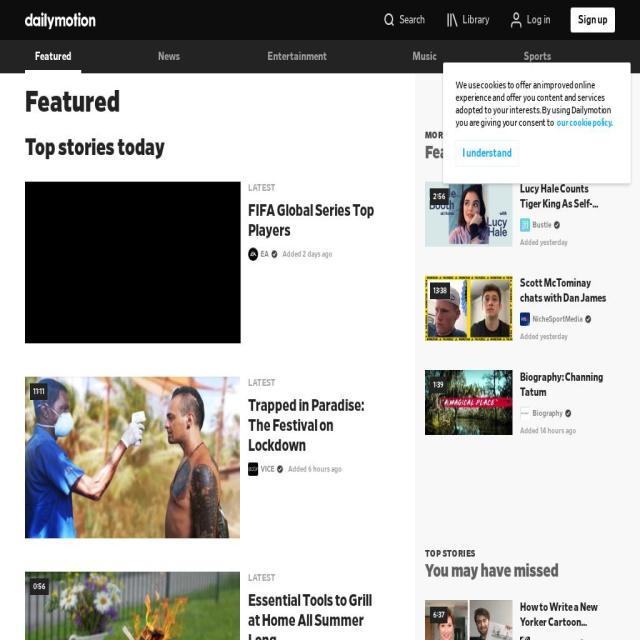button: (25, 182, 241, 343), (25, 377, 241, 538), (25, 571, 240, 640), (424, 276, 512, 342), (424, 370, 512, 436), (424, 182, 512, 246), (424, 600, 512, 640), (257, 40, 337, 73), (25, 40, 81, 73), (399, 40, 450, 73), (456, 140, 518, 167), (144, 40, 194, 73), (512, 40, 562, 73), (571, 6, 615, 32), (520, 312, 582, 326), (520, 407, 562, 421), (520, 218, 552, 232), (248, 462, 274, 476), (248, 247, 268, 261), (519, 636, 576, 640)
heading: (25, 137, 164, 160), (25, 88, 120, 118), (424, 561, 559, 582), (424, 142, 526, 164), (424, 548, 475, 560), (424, 130, 448, 140)
image: (25, 182, 240, 343), (25, 377, 240, 538), (25, 571, 240, 640), (424, 276, 512, 342), (424, 370, 512, 436), (424, 182, 512, 246), (424, 600, 512, 640), (25, 10, 96, 31), (382, 9, 397, 30), (445, 9, 460, 30), (509, 9, 523, 30), (519, 218, 530, 232), (519, 312, 530, 326), (519, 407, 530, 421), (248, 247, 258, 261), (248, 462, 258, 476), (584, 315, 592, 324), (564, 409, 572, 418), (270, 250, 278, 258), (553, 221, 560, 230), (276, 465, 283, 473), (519, 636, 529, 640), (578, 639, 585, 640)
link: (248, 398, 364, 454), (247, 592, 372, 640), (520, 183, 606, 240), (248, 203, 374, 239), (519, 601, 604, 640), (520, 277, 606, 305), (519, 372, 603, 399)
text: (25, 182, 241, 343), (456, 80, 611, 128), (532, 312, 582, 326), (267, 51, 327, 62), (555, 118, 613, 128), (462, 148, 512, 159), (462, 13, 490, 28), (532, 407, 562, 421), (35, 51, 71, 62), (399, 13, 425, 28), (578, 13, 608, 26), (429, 282, 450, 300), (527, 13, 551, 28), (540, 426, 576, 436), (429, 188, 449, 205), (30, 578, 49, 595), (30, 188, 48, 205), (30, 383, 48, 400), (429, 377, 447, 394), (430, 607, 448, 624), (524, 51, 551, 62), (248, 182, 276, 192), (248, 378, 276, 388), (307, 465, 342, 473), (248, 572, 276, 582), (540, 238, 568, 248), (540, 332, 568, 342), (412, 51, 437, 62), (532, 218, 551, 232), (158, 51, 181, 62), (302, 250, 332, 258), (519, 238, 540, 248), (519, 332, 540, 342), (519, 426, 540, 436), (260, 462, 274, 476), (531, 636, 576, 640), (282, 250, 302, 258), (288, 465, 308, 473), (260, 247, 269, 261)
